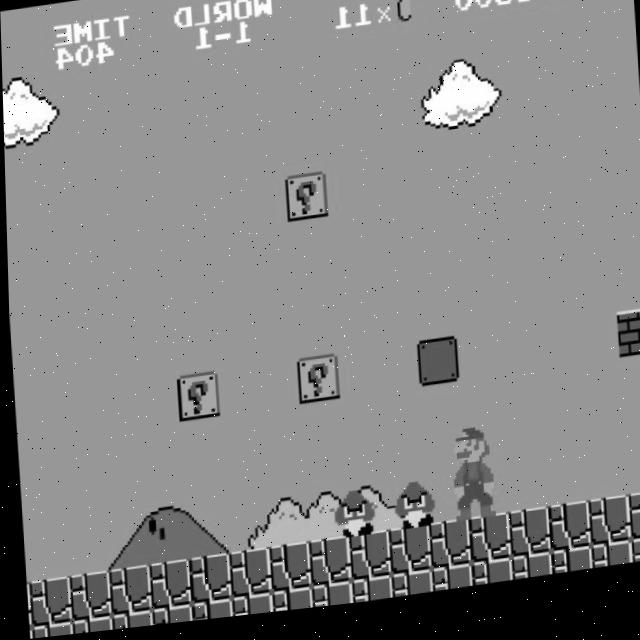0- big_mario: (447, 433, 495, 532)
1- brick_block: (614, 321, 640, 371)
13- mystery_block: (293, 360, 337, 411), (174, 374, 218, 425), (283, 178, 327, 228)
17- undestructible_block: (584, 508, 628, 559), (544, 513, 588, 564), (504, 518, 548, 569), (464, 523, 508, 574), (424, 528, 468, 579), (384, 532, 428, 583), (344, 537, 388, 588), (304, 542, 348, 593), (264, 547, 308, 598), (224, 552, 268, 603), (184, 557, 228, 608), (144, 562, 188, 613), (104, 567, 148, 618), (64, 572, 108, 623), (25, 576, 69, 627), (586, 553, 629, 581), (546, 558, 589, 586), (506, 563, 549, 591), (466, 568, 509, 596), (426, 573, 469, 600), (386, 578, 429, 605), (347, 583, 389, 610), (306, 588, 349, 614), (266, 592, 309, 618), (226, 597, 269, 621), (186, 602, 229, 625), (146, 607, 189, 628), (107, 612, 149, 632), (624, 504, 640, 554), (67, 617, 109, 635), (27, 621, 69, 639), (627, 550, 640, 576), (23, 581, 29, 627), (25, 627, 29, 639)
3- empty_block: (413, 345, 457, 396)
8- goomba: (389, 486, 435, 540), (329, 493, 375, 547)
